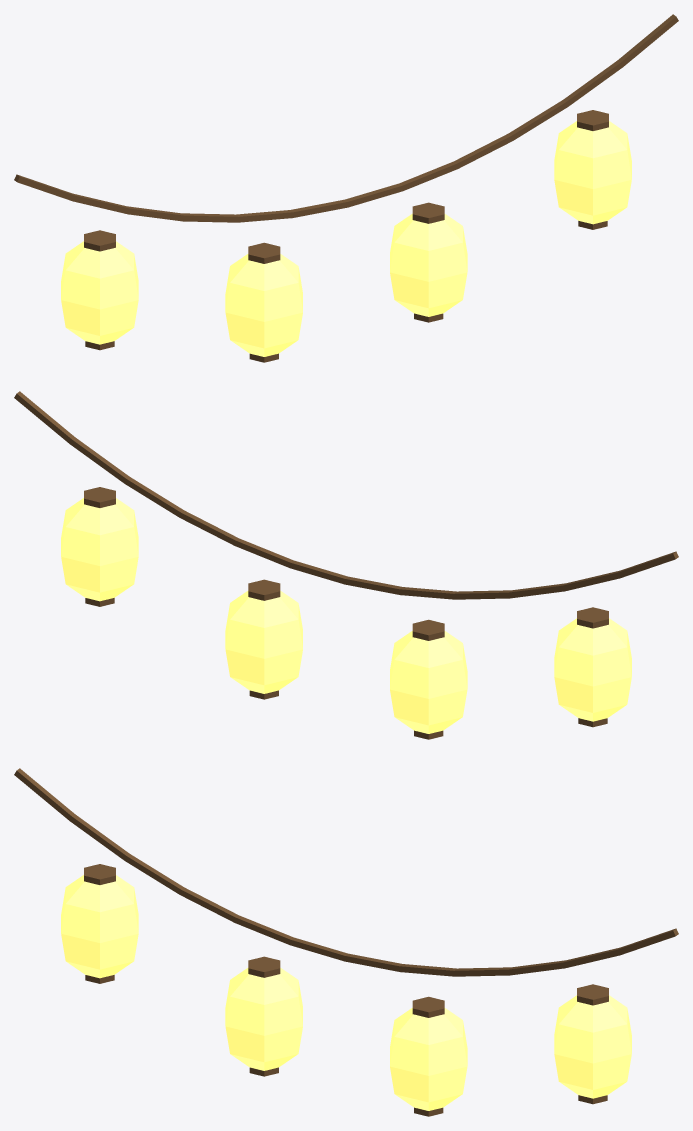
File: Prop_YTM_LanternString_LOD1.glb
The picture shows the model from 3 angles, top to bottom: view 1: azimuth 30°, elevation 25°; view 2: azimuth 150°, elevation 25°; view 3: azimuth 330°, elevation 25°; orthographic projection.
Visible parts, largest first — view 1: Prop_YTM_LanternString; view 2: Prop_YTM_LanternString; view 3: Prop_YTM_LanternString.
Part boxes in pixels (<box>): Prop_YTM_LanternString: <box>14,14,678,362</box>; Prop_YTM_LanternString: <box>14,391,678,739</box>; Prop_YTM_LanternString: <box>14,768,678,1116</box>.
Size of the model in its own units: 1.45 by 0.5025 by 0.1472.
